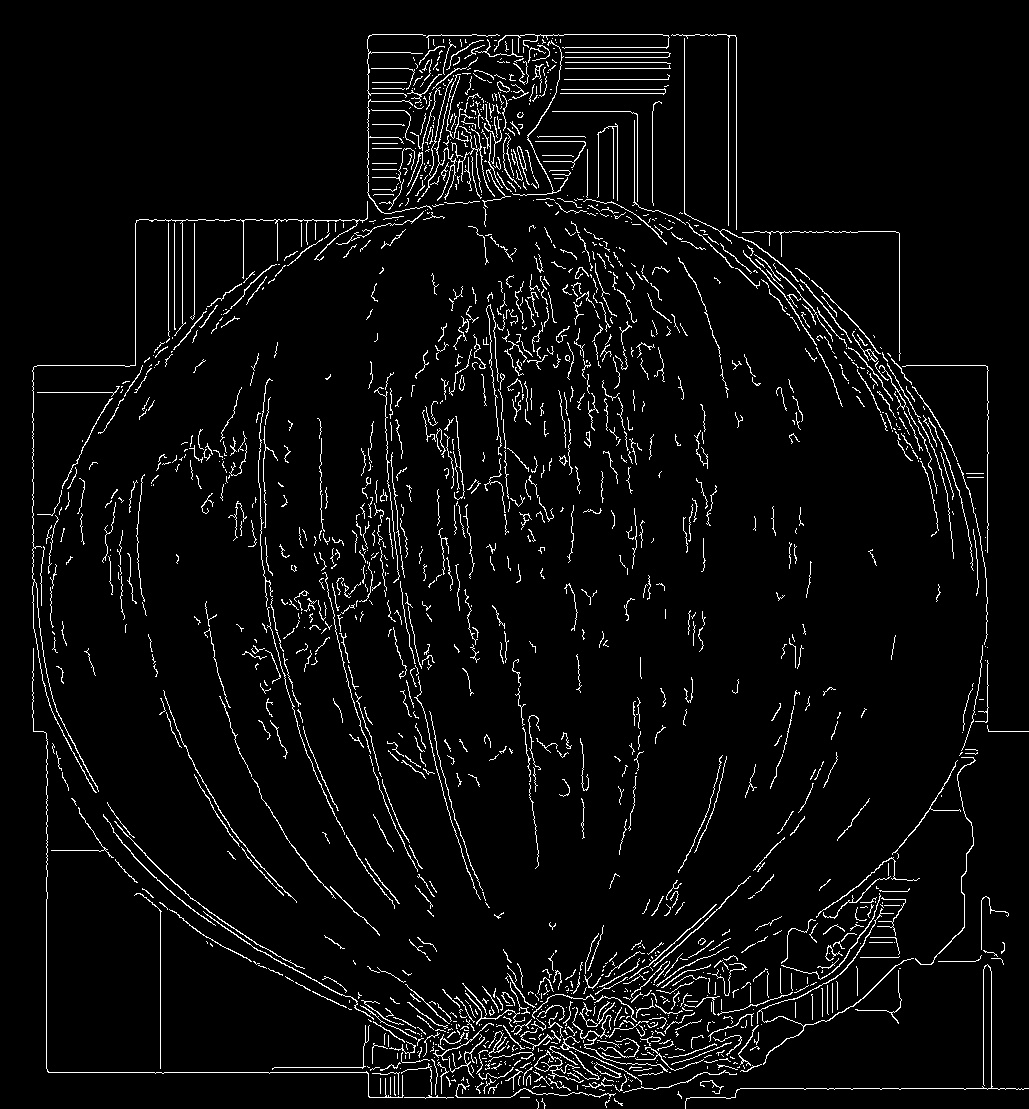onion: (62, 20, 996, 1109)
